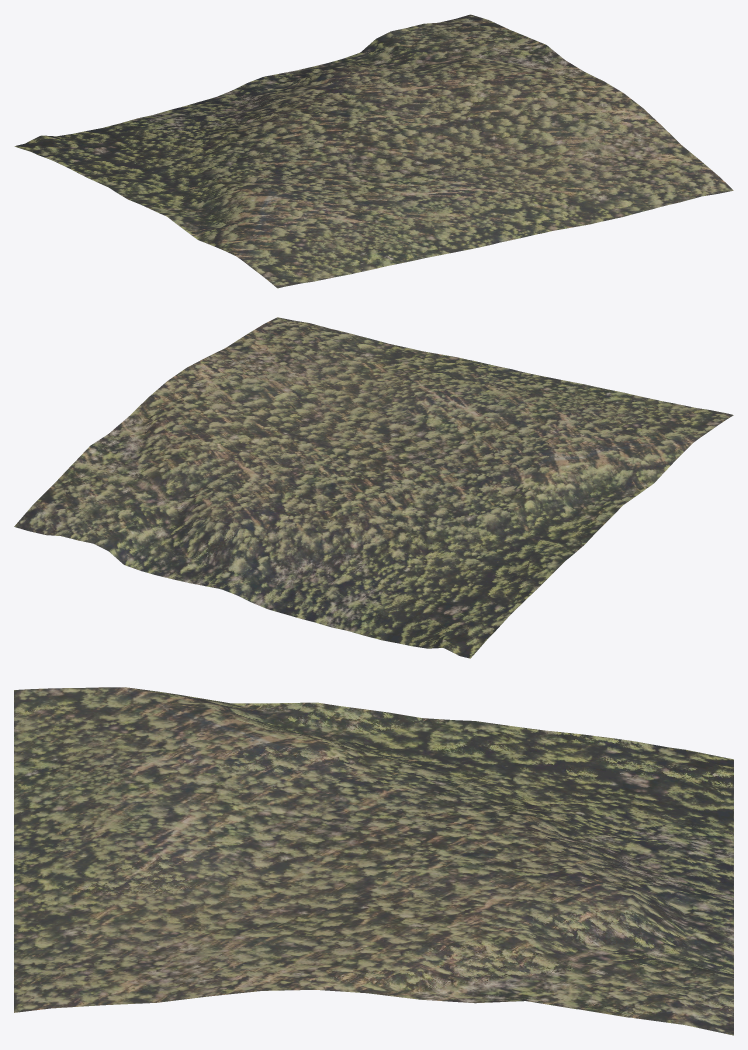
Rendered from CM_Terrain_24490254_6822865.fbx.
The picture shows the model from 3 angles, top to bottom: view 1: azimuth 30°, elevation 25°; view 2: azimuth 150°, elevation 25°; view 3: azimuth 270°, elevation 25°; orthographic projection. The views are drawn at different scales.
Parts seen in each view (by area): view 1: CM_Terrain_24490254_6822865_LOD0; view 2: CM_Terrain_24490254_6822865_LOD0; view 3: CM_Terrain_24490254_6822865_LOD0.
Boxes of the visible parts, x1=… form: CM_Terrain_24490254_6822865_LOD0: x1=14, y1=14, x2=733, y2=288; CM_Terrain_24490254_6822865_LOD0: x1=14, y1=317, x2=733, y2=658; CM_Terrain_24490254_6822865_LOD0: x1=14, y1=687, x2=733, y2=1035.
Size of what is drawn, in the model's own units: 205 by 24.91 by 205.
